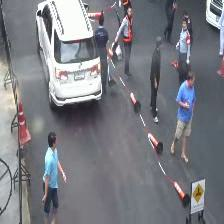normal: (170, 71, 196, 164), (42, 131, 66, 224), (111, 5, 135, 78), (146, 34, 165, 125)
